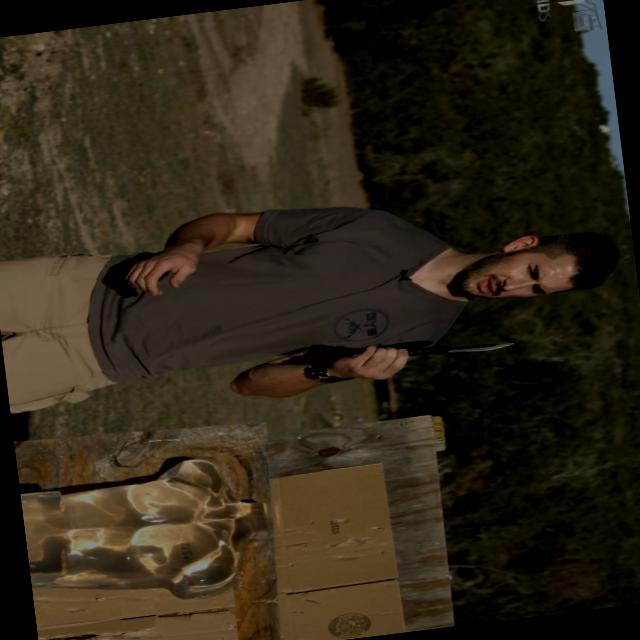knife: (345, 324, 520, 384)
